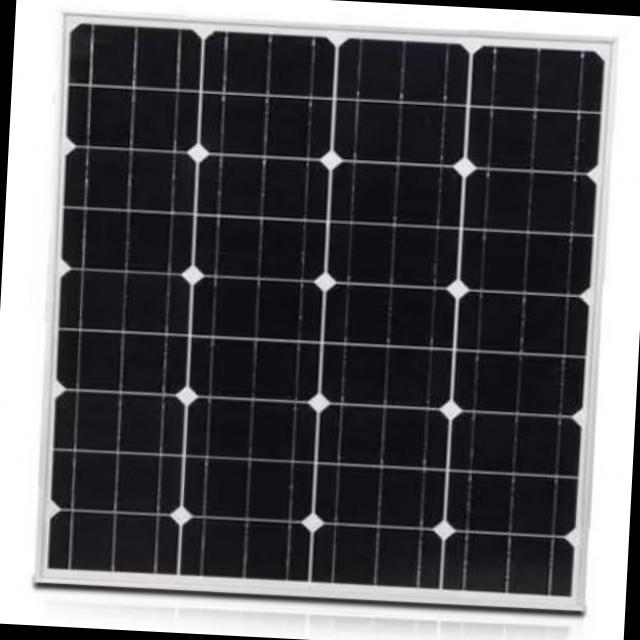no faulty: (40, 21, 601, 604)
